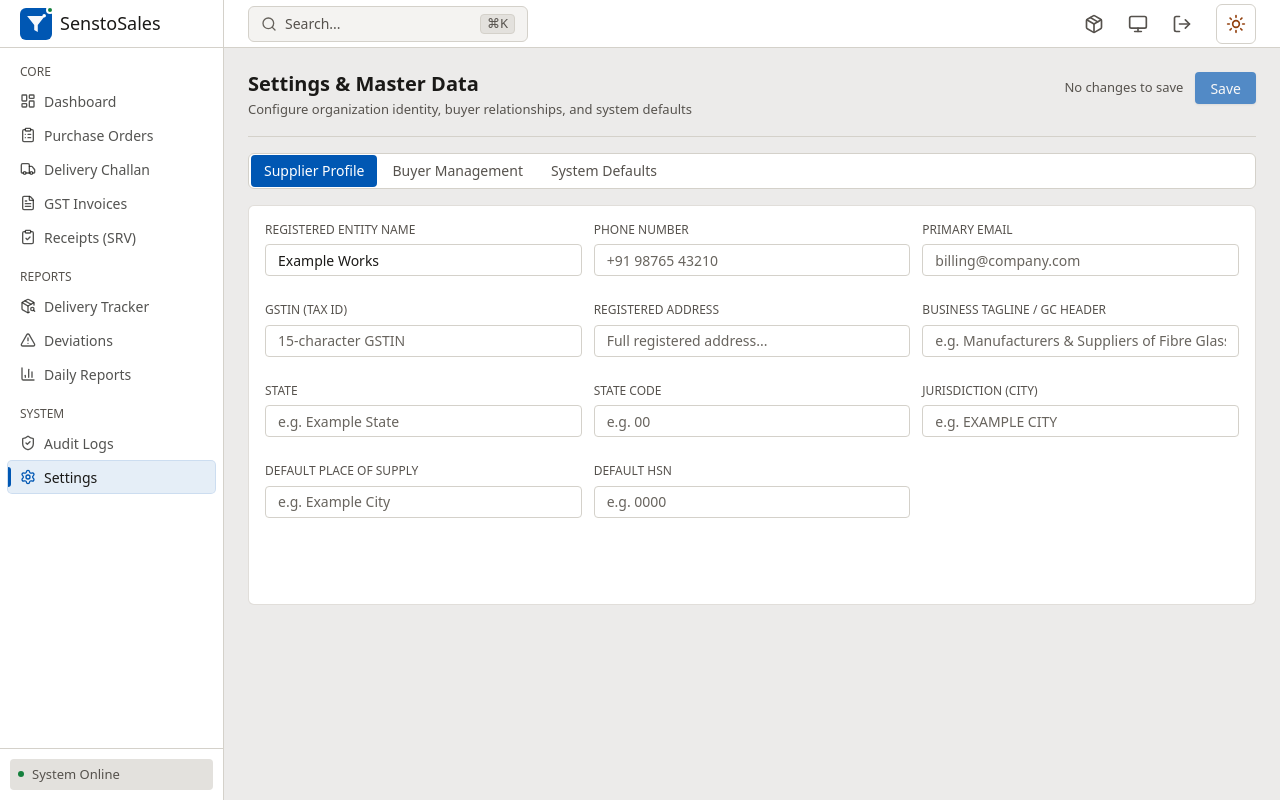
Test: settings save (SPEC-15 PR 3, INV-72) › System Defaults offers no Base Currency (owner answer 18)
Click the button "System Defaults". click: (604, 170)
box: [538,154,670,186]
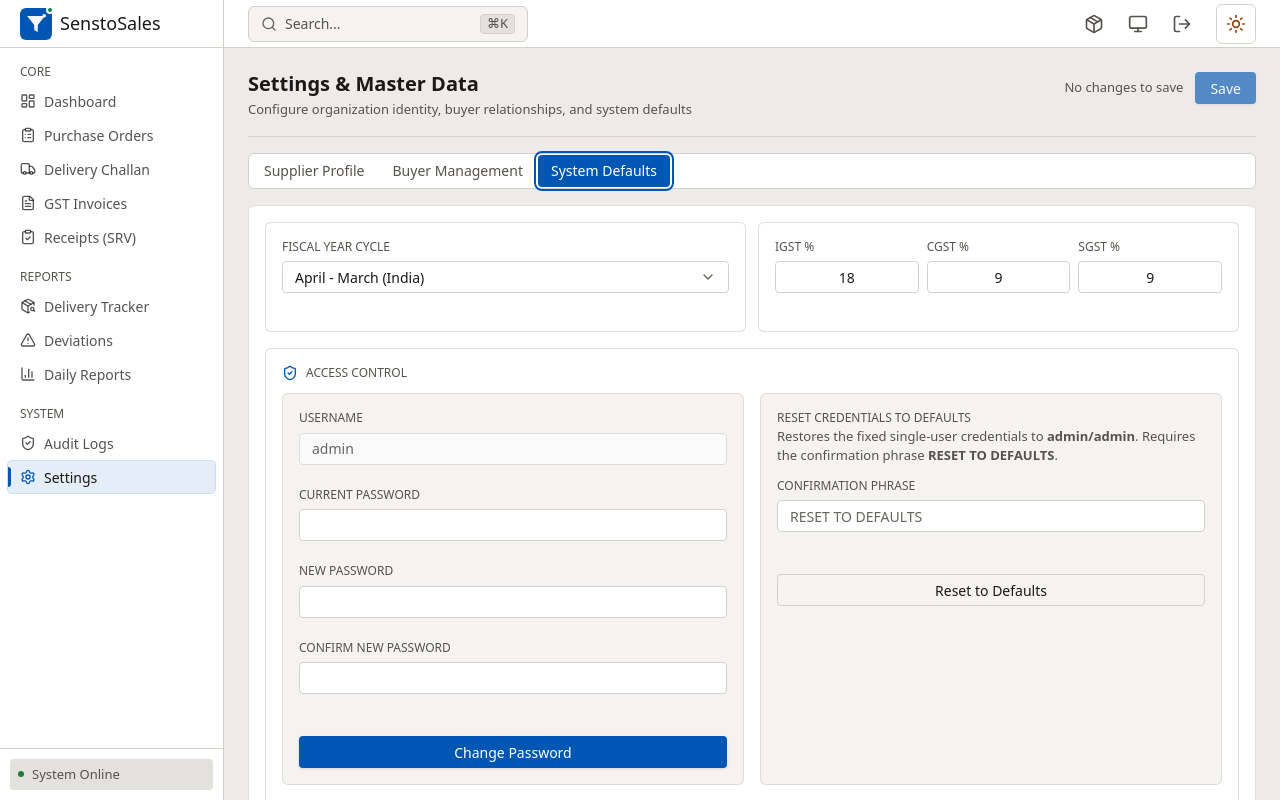
Now the text "Fiscal Year Cycle" is shown, box [282,238,390,254]
